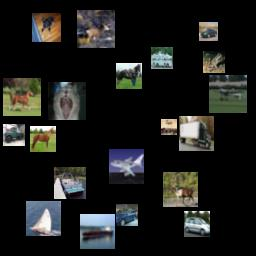airplane: (209, 75, 247, 113), (109, 149, 144, 184), (161, 119, 177, 135)
automobile: (184, 211, 210, 237), (116, 204, 138, 226), (199, 22, 218, 41)
cat: (48, 82, 86, 120)
deer: (77, 10, 115, 48), (163, 172, 198, 207)
dog: (32, 13, 61, 42)
frog: (203, 51, 225, 73)
ship: (26, 201, 61, 236), (80, 214, 115, 249), (54, 167, 86, 199)
truck: (179, 116, 214, 151), (151, 47, 173, 69), (3, 124, 25, 146)
